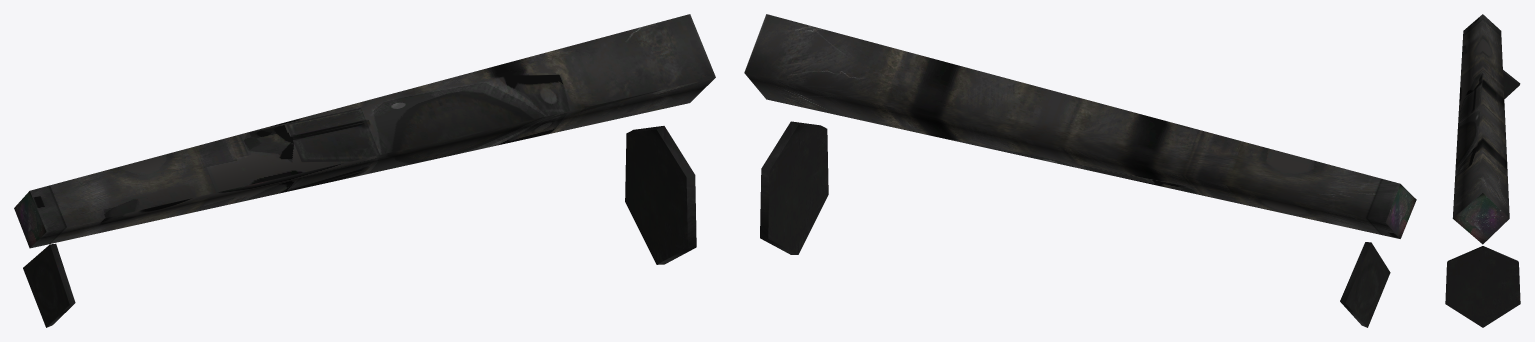
Rendered from t6_wpn_sniper_m82_scope_world_LOD2.obj.
3 views of the same model, side by side, from view 1: azimuth 30°, elevation 25°; view 2: azimuth 150°, elevation 25°; view 3: azimuth 270°, elevation 25° (orthographic). The views are drawn at different scales.
Visible parts, largest first — view 1: mtl_t6_wpn_sniper_m82_scope_camo2, mtl_t6_wpn_sniper_m82_scope; view 2: mtl_t6_wpn_sniper_m82_scope_camo2, mtl_t6_wpn_sniper_m82_scope; view 3: mtl_t6_wpn_sniper_m82_scope_camo2, mtl_t6_wpn_sniper_m82_scope.
Part boxes in pixels (<box>): mtl_t6_wpn_sniper_m82_scope_camo2: <box>30,14,715,248</box>; mtl_t6_wpn_sniper_m82_scope: <box>14,126,696,327</box>; mtl_t6_wpn_sniper_m82_scope_camo2: <box>744,14,1400,238</box>; mtl_t6_wpn_sniper_m82_scope: <box>760,121,1416,327</box>; mtl_t6_wpn_sniper_m82_scope_camo2: <box>1452,14,1509,218</box>; mtl_t6_wpn_sniper_m82_scope: <box>1445,70,1520,327</box>.
Bounding box in the file's own units: 34.13 × 12.07 × 5.78.
2 materials, 2 textured.
